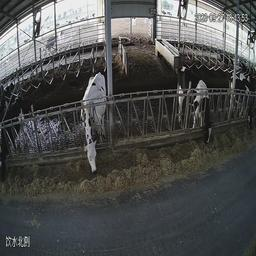cow: (172, 61, 215, 156), (76, 63, 107, 181), (0, 94, 27, 187), (229, 67, 254, 138)
